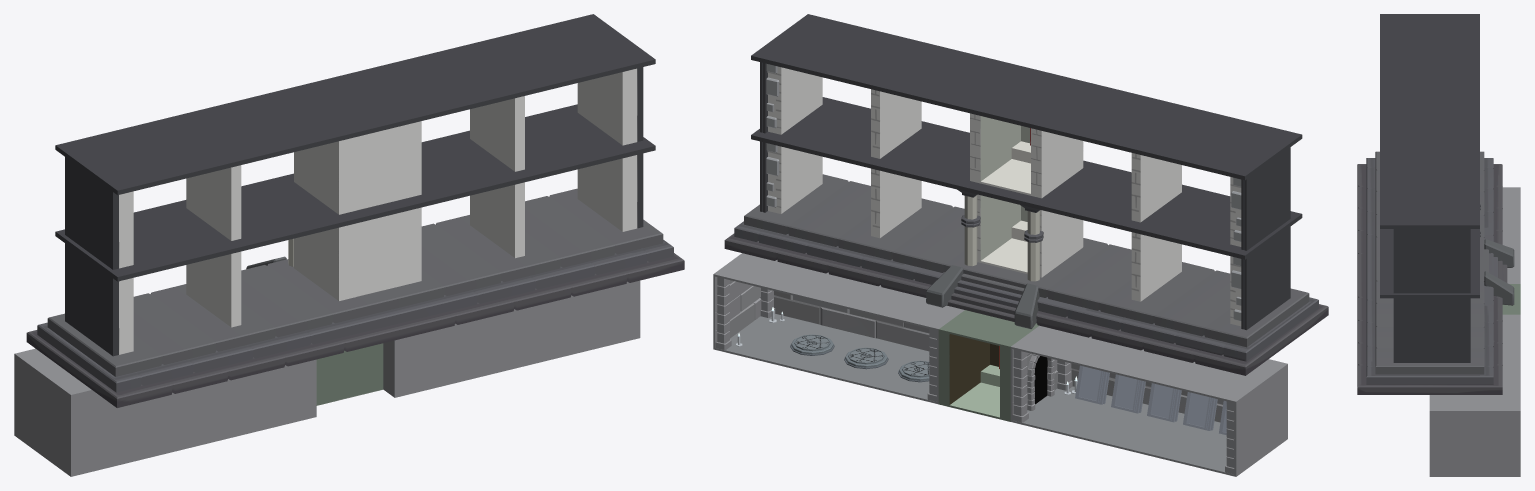
Rendered from BasicArchitecture.fbx.
3 renders of one model, left to right at view 1: azimuth 30°, elevation 25°; view 2: azimuth 150°, elevation 25°; view 3: azimuth 270°, elevation 25°, orthographic. The views are drawn at different scales.
Visible parts, largest first — view 1: FLoor2, Stonesteps, Floor1, R5, R1, Undergroundelevator; view 2: FLoor2, Stonesteps, Floor1, R5, R1, Undergroundelevator, Coffin4, Coffin3, Coffin2, Coffin1, R6, A14 (+1 smaller); view 3: FLoor2, Stonesteps, R1, Floor1, R5, Undergroundelevator.
Boxes of the visible parts, <box> form: FLoor2: <box>55,14,655,269</box>; Stonesteps: <box>26,188,684,407</box>; Floor1: <box>55,104,655,356</box>; R5: <box>14,348,316,476</box>; R1: <box>383,280,640,397</box>; Undergroundelevator: <box>316,343,383,405</box>; FLoor2: <box>751,14,1302,250</box>; Stonesteps: <box>724,174,1328,375</box>; Floor1: <box>751,97,1302,330</box>; R5: <box>1010,325,1287,476</box>; R1: <box>713,253,964,404</box>; Undergroundelevator: <box>938,310,1038,421</box>; Coffin4: <box>1183,392,1217,430</box>; Coffin3: <box>1147,383,1181,422</box>; Coffin2: <box>1111,374,1145,413</box>; Coffin1: <box>1075,365,1109,404</box>; R6: <box>1027,354,1054,410</box>; A14: <box>790,334,834,355</box>; FLoor2: <box>1380,14,1479,293</box>; Stonesteps: <box>1357,151,1514,394</box>; R1: <box>1429,314,1520,476</box>; Floor1: <box>1380,229,1479,362</box>; R5: <box>1502,187,1520,283</box>; Undergroundelevator: <box>1502,284,1520,314</box>.
Bounding box in the file's own units: 2910 × 1490 × 900.
Materials: 7 (7 with a texture image).
